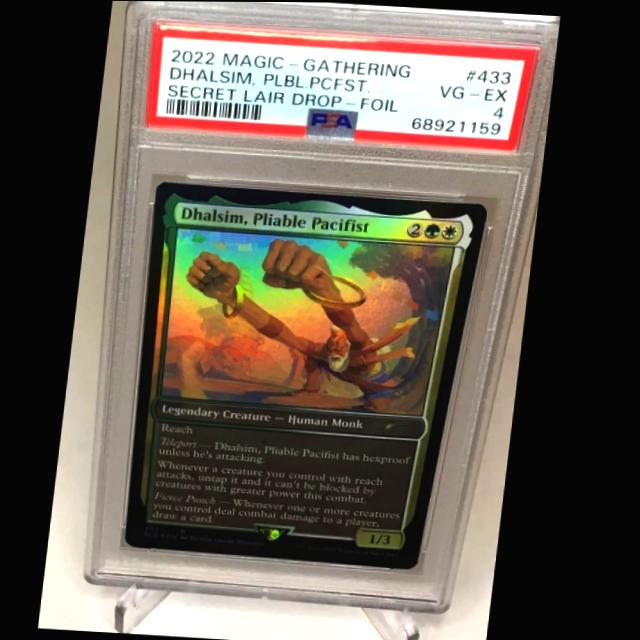card: (131, 180, 492, 570)
psa_label: (147, 21, 541, 152)
psa_slab: (89, 1, 561, 614)
